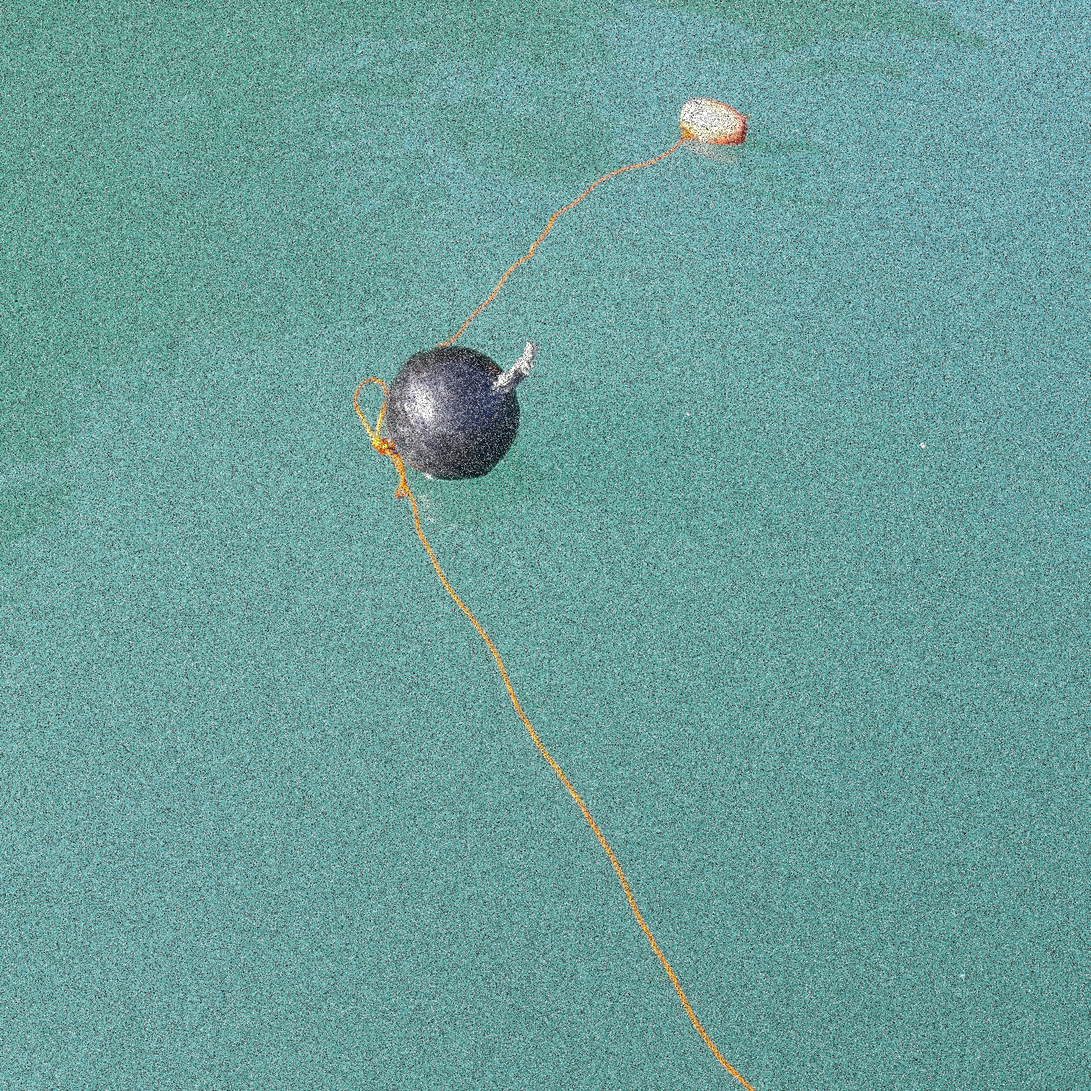sampah_terapung: (354, 378, 755, 1091), (436, 121, 694, 347), (385, 346, 525, 481), (680, 100, 746, 144), (509, 339, 540, 378)
